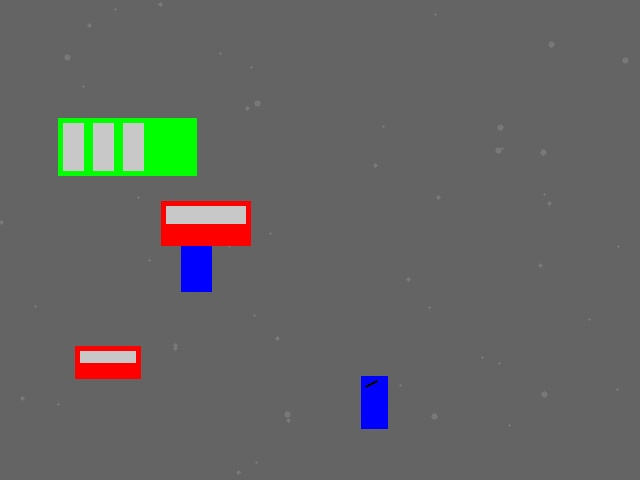bus: (58, 118, 196, 175)
car: (161, 201, 250, 245), (75, 346, 140, 378)
motorcycle: (181, 231, 211, 291), (361, 376, 387, 428)
